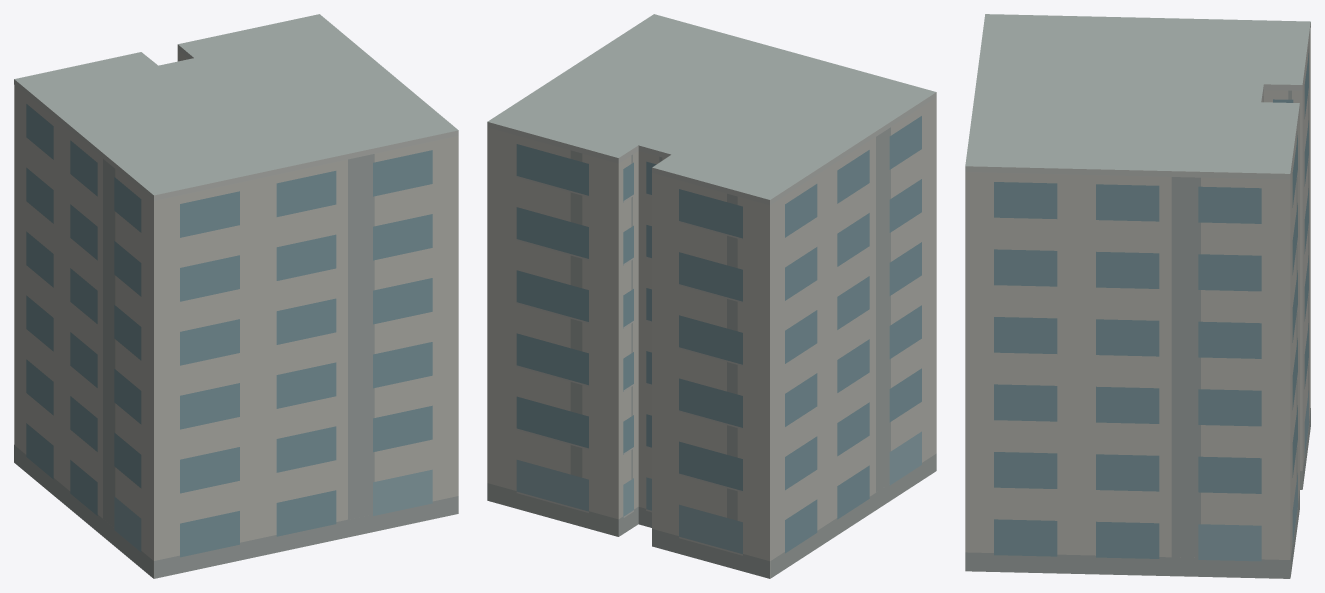
File: survey-upis-32813902.glb
3 renders of one model, left to right at view 1: azimuth 30°, elevation 25°; view 2: azimuth 150°, elevation 25°; view 3: azimuth 270°, elevation 25°, orthographic. The views are drawn at different scales.
Visible parts, largest first — view 1: survey-upis-32813902.tmp; view 2: survey-upis-32813902.tmp; view 3: survey-upis-32813902.tmp.
Boxes of the visible parts, x1,y1,x2,y2 form: survey-upis-32813902.tmp: (14, 14, 458, 578); survey-upis-32813902.tmp: (487, 14, 936, 578); survey-upis-32813902.tmp: (965, 14, 1310, 578).
Bounding box in the file's own units: 14.41 × 17 × 13.16.
